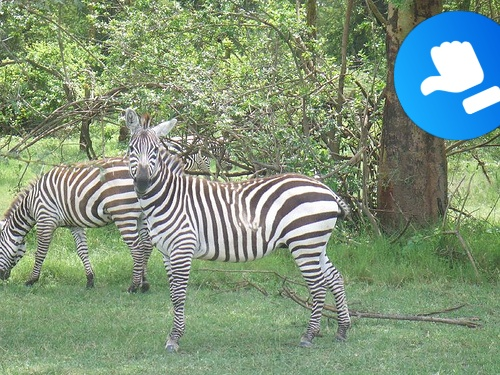like: (394, 11, 500, 140)
